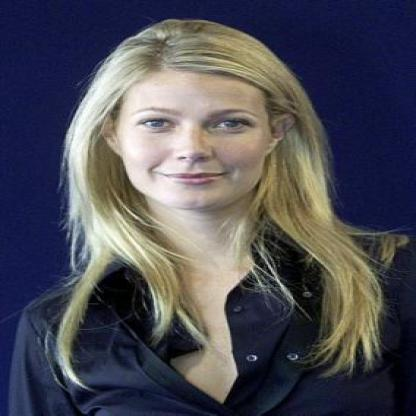face: (114, 36, 278, 213)
